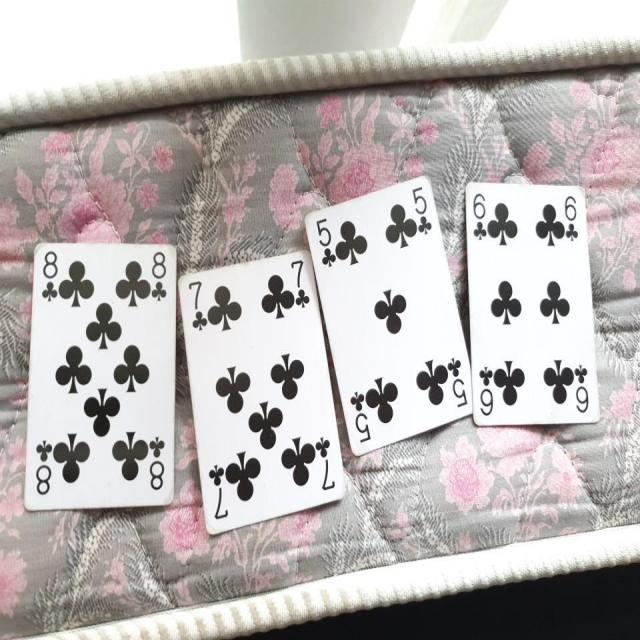5 of clubs: (302, 173, 476, 458)
6 of clubs: (464, 180, 601, 427)
7 of clubs: (176, 251, 348, 537)
8 of clubs: (24, 241, 178, 507)
